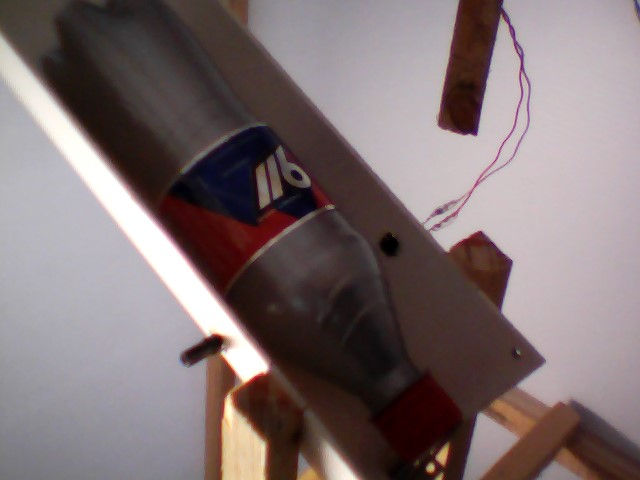plastico: (38, 1, 467, 465)
